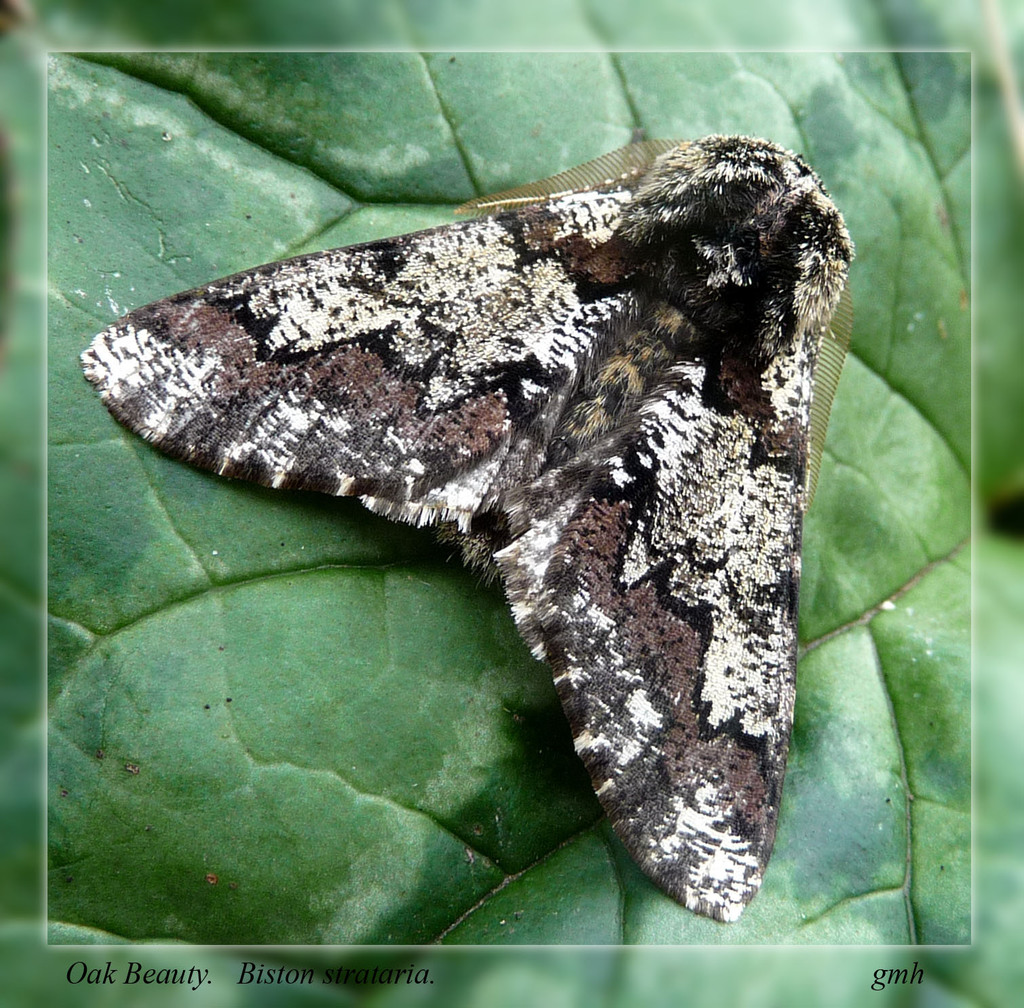Butterfly: (75, 128, 861, 931)
